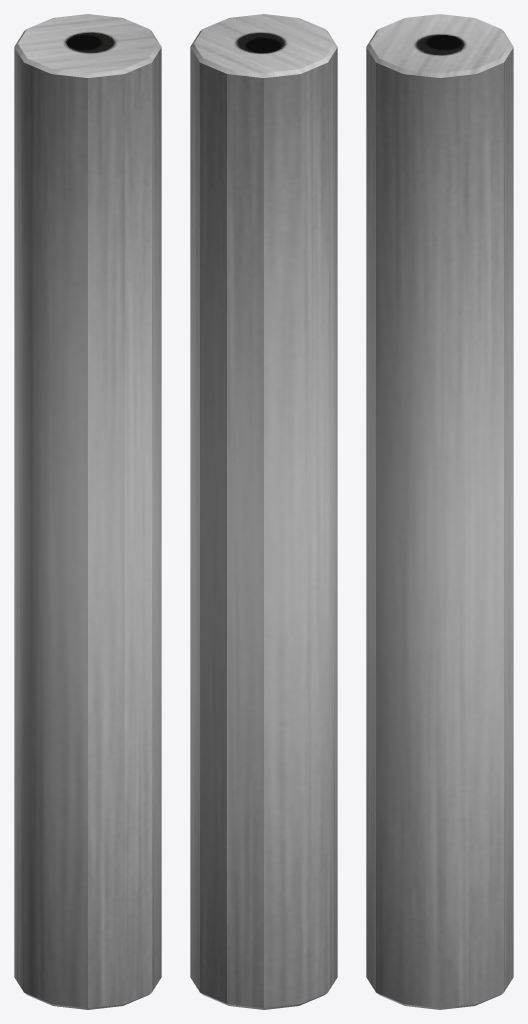
The model's file is sensor_pole.dae.
The picture shows the model from 3 angles, left to right: view 1: azimuth 30°, elevation 25°; view 2: azimuth 150°, elevation 25°; view 3: azimuth 270°, elevation 25°; orthographic projection.
Parts seen in each view (by area): view 1: xtion_poll; view 2: xtion_poll; view 3: xtion_poll.
Part boxes in pixels (x1,y1,x2,y2): xtion_poll: (14,14,161,1009); xtion_poll: (190,14,337,1009); xtion_poll: (366,14,513,1009).
Size of the model in its own units: 0.012 by 0.012 by 0.084.
1 material, 1 textured.
